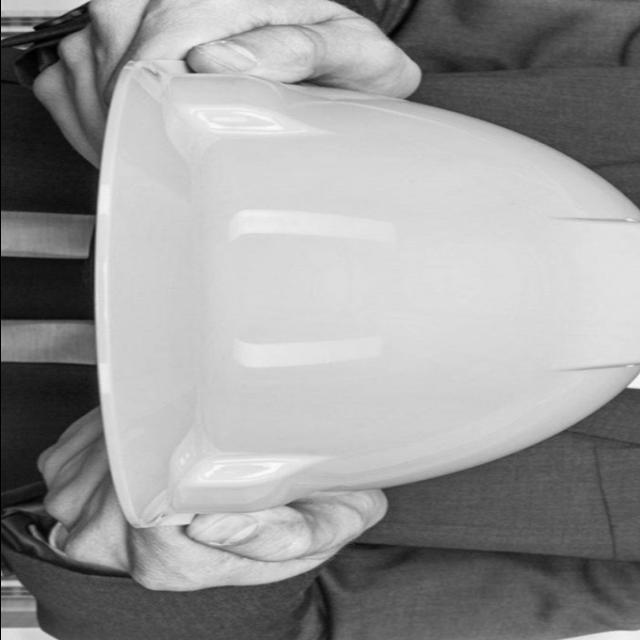safety_helmet: (88, 60, 640, 528)
